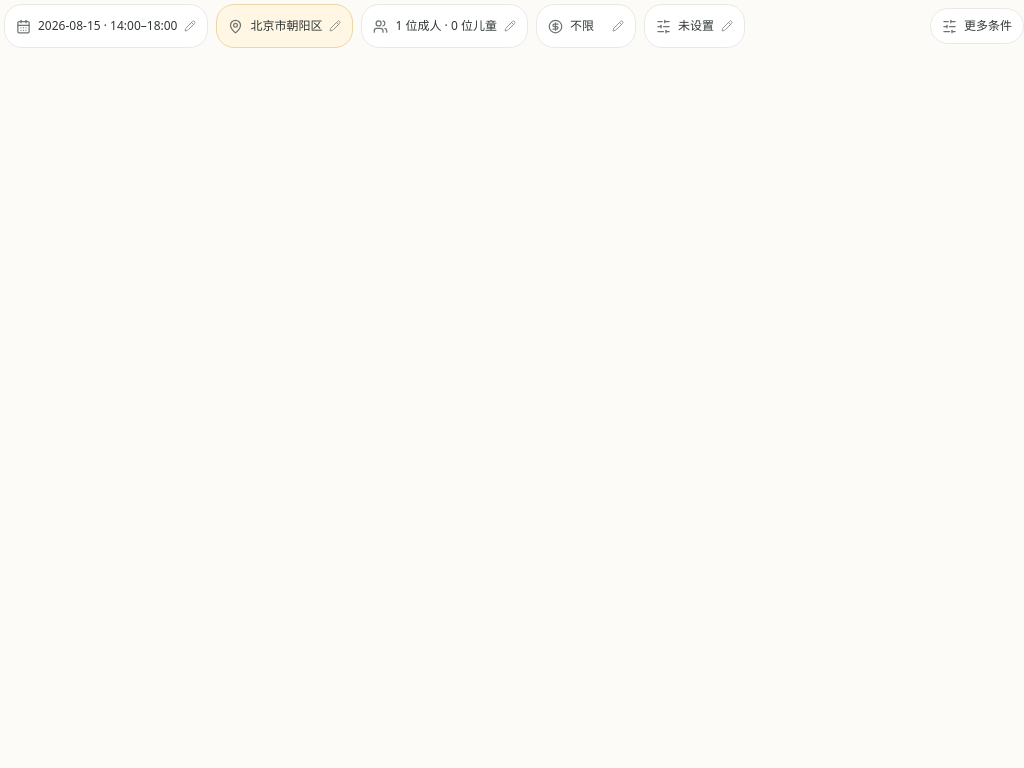
Test: PlanningContextBar typed patches › labels a clarification-required origin as pending
The image size is (1024, 768).
Step 1. Click the button with aria-label "修改出发地" → {"x": 285, "y": 26}, box [216,4,354,48]
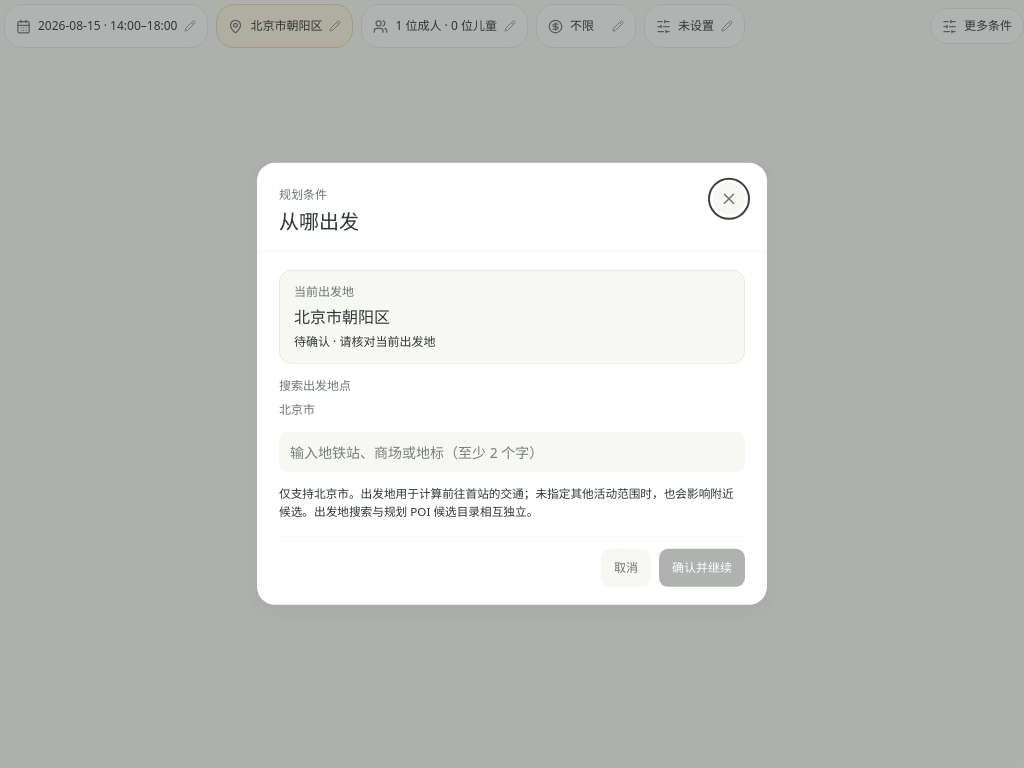
expect the element labelled "当前出发地" shows "待确认 · 请核对当前出发地": met, box [294,333,436,350]
